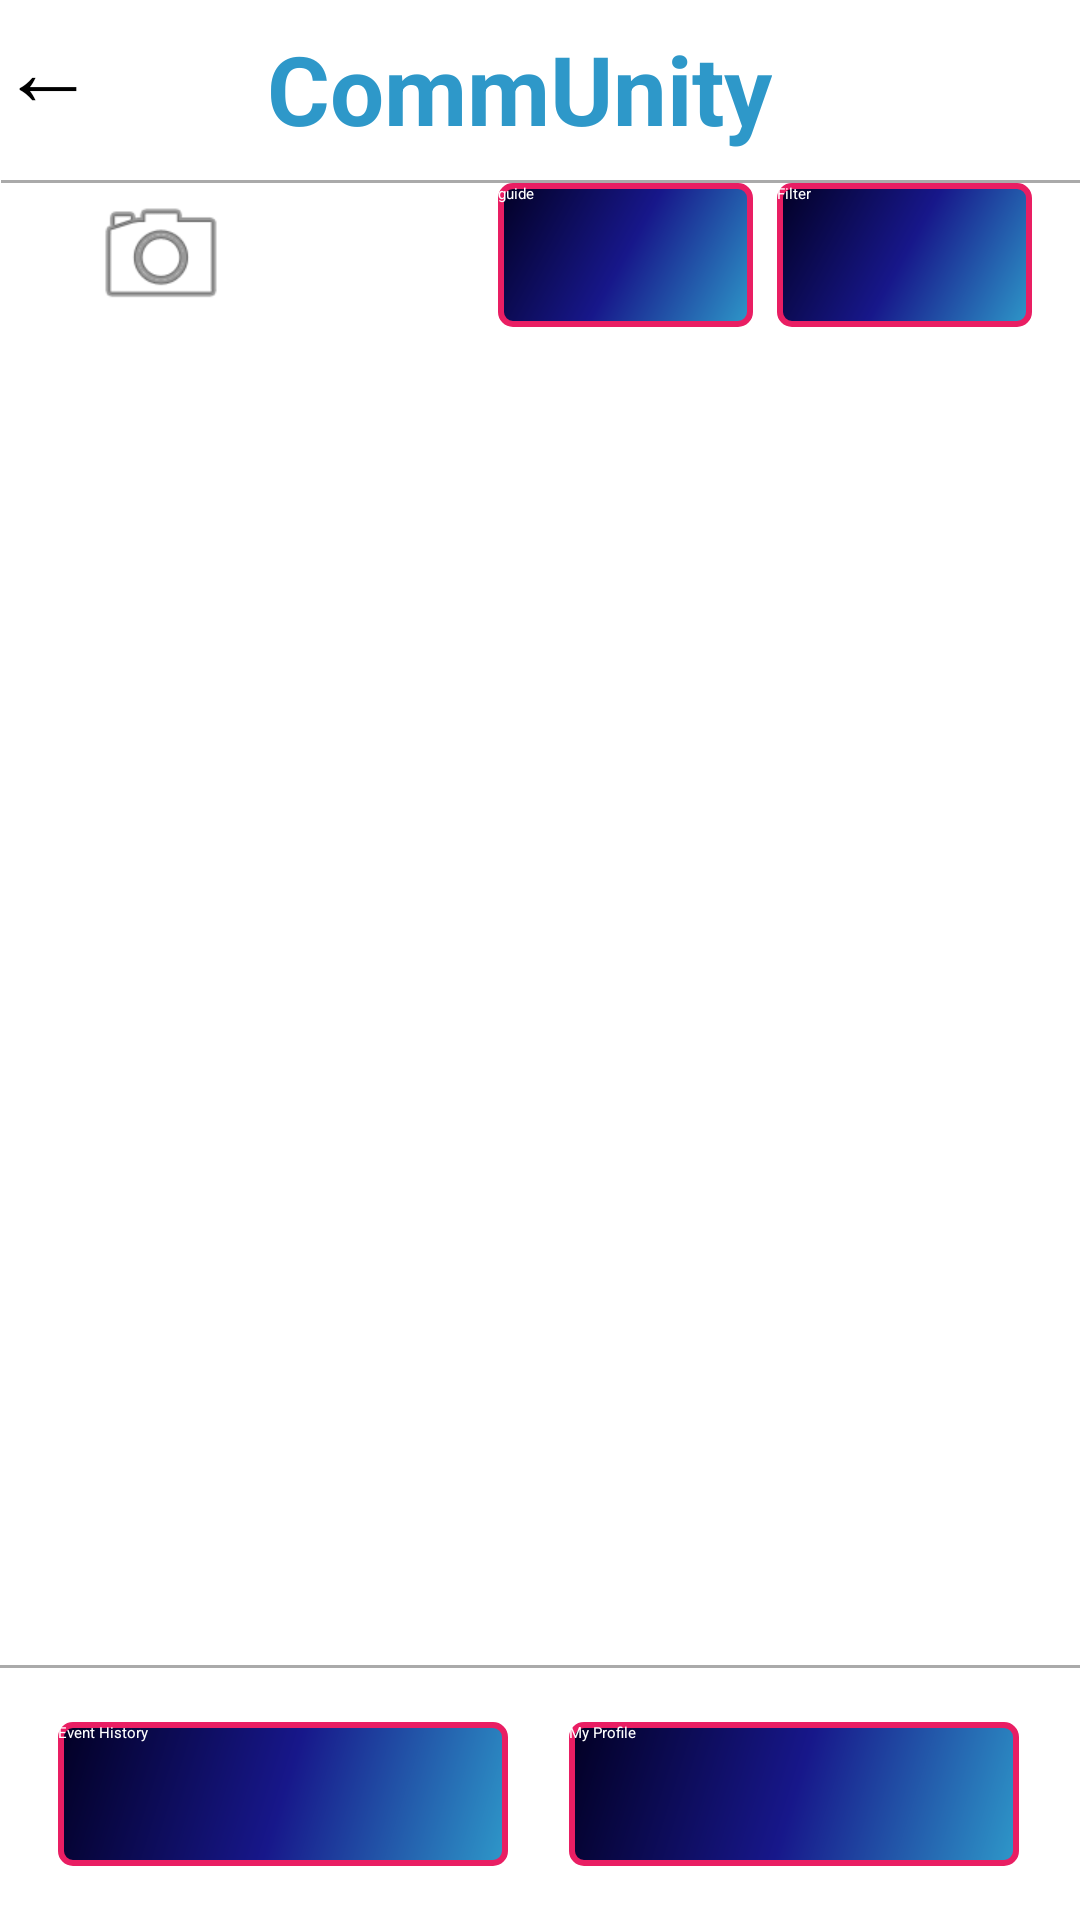

Locate icon controls on the screen. Image size 1080w x 1920h, boxes as [left=x1, top=y1, right=x2, bottom=y2].
Scan QR Code: [left=105, top=208, right=217, bottom=297]
